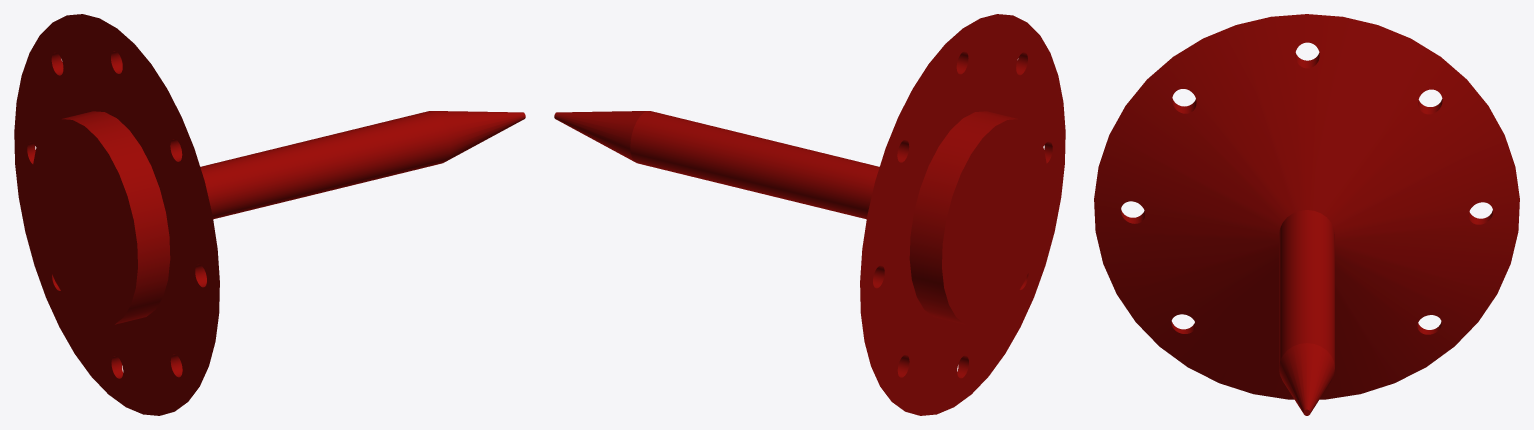
Rendered from needle.obj.
3 renders of one model, left to right at view 1: azimuth 30°, elevation 25°; view 2: azimuth 150°, elevation 25°; view 3: azimuth 270°, elevation 25°, orthographic. The views are drawn at different scales.
Visible parts, largest first — view 1: End Effector; view 2: End Effector; view 3: End Effector.
Boxes of the visible parts, x1,y1,x2,y2 form: End Effector: (14,14,525,415); End Effector: (554,14,1065,415); End Effector: (1094,14,1519,415).
Bounding box in the file's own units: 75 × 60.79 × 60.85.
